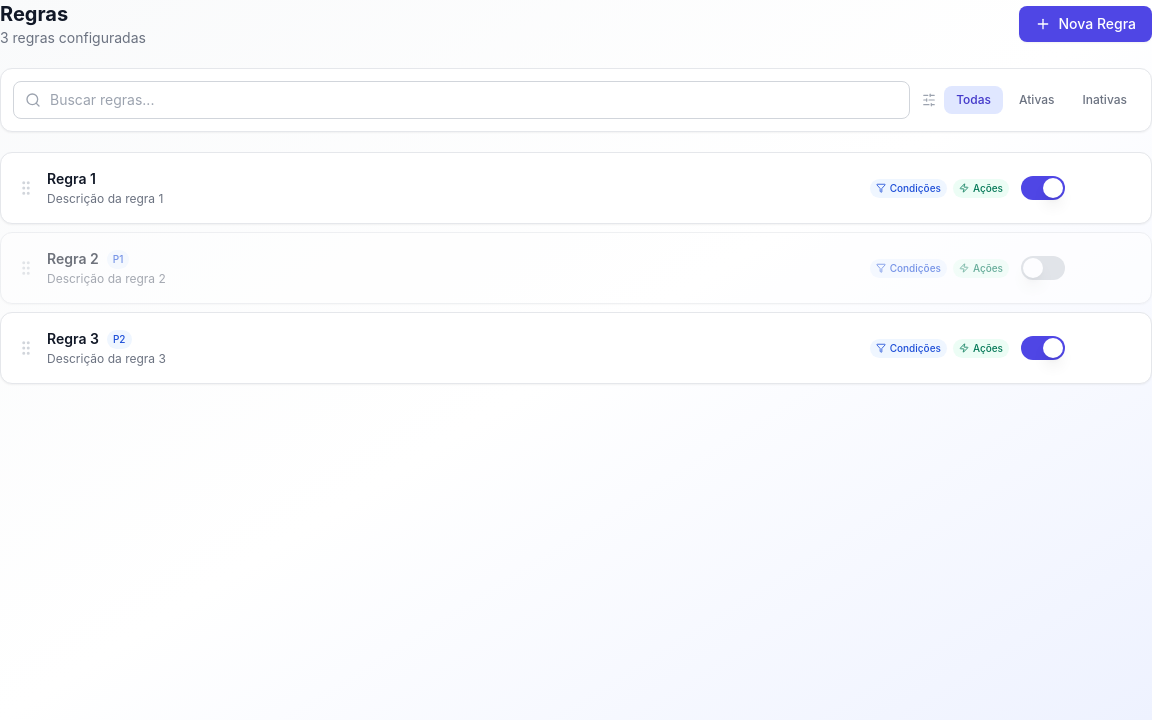
it: RuleListView › should show empty state when filter yields no results
Expected: the heading "Regra 1" is shown, [47, 169, 96, 189]
Type "xyz-nonexistent" into the field with placeholder "Buscar regras...".
click(462, 100); type("xyz-nonexistent")  # box [13, 81, 910, 119]
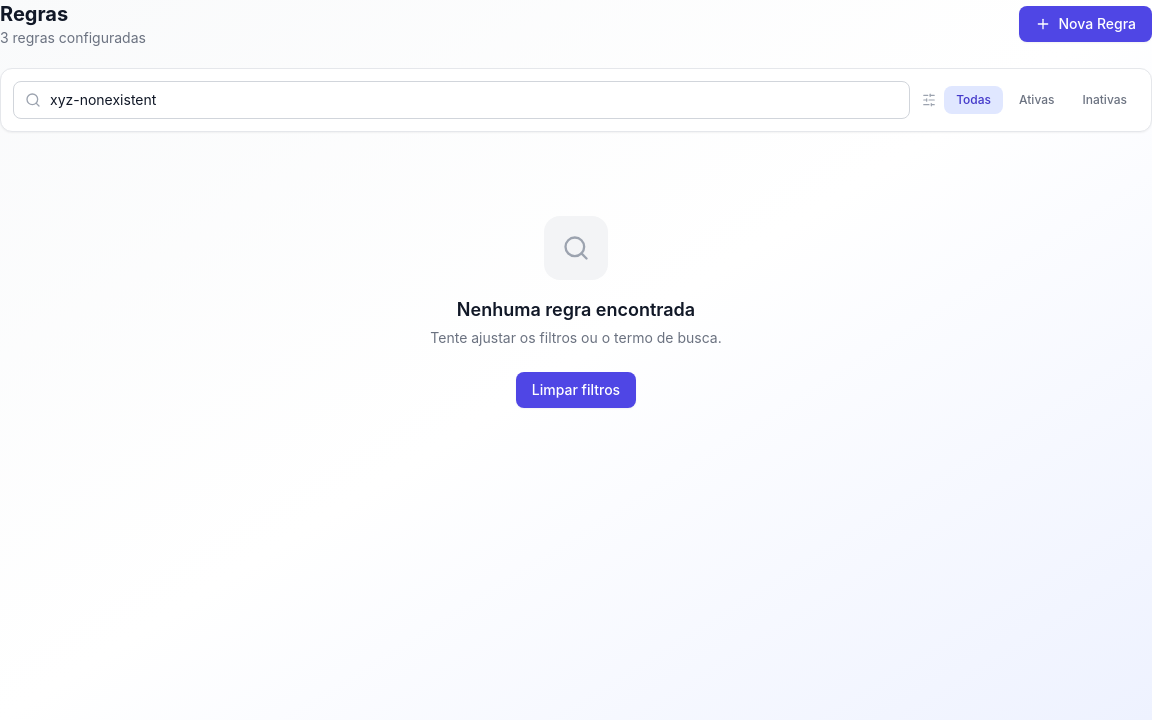
Result: the heading "Nenhuma regra encontrada" is shown at [457, 296, 695, 324]
